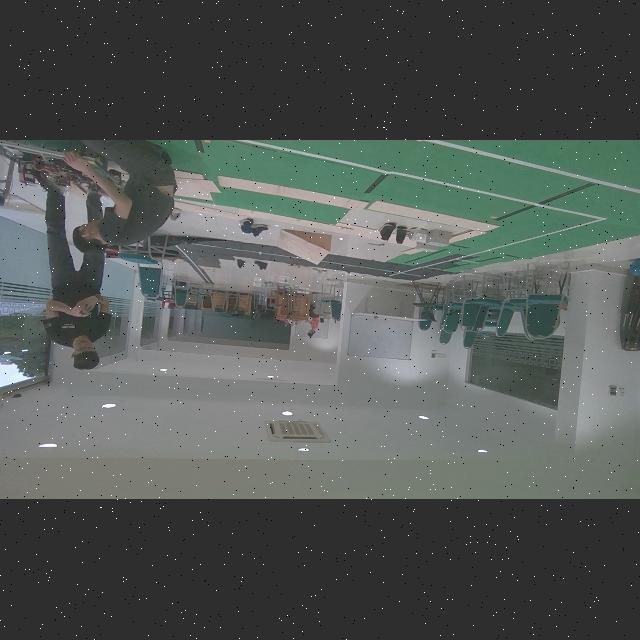B: (630, 259, 640, 277)
